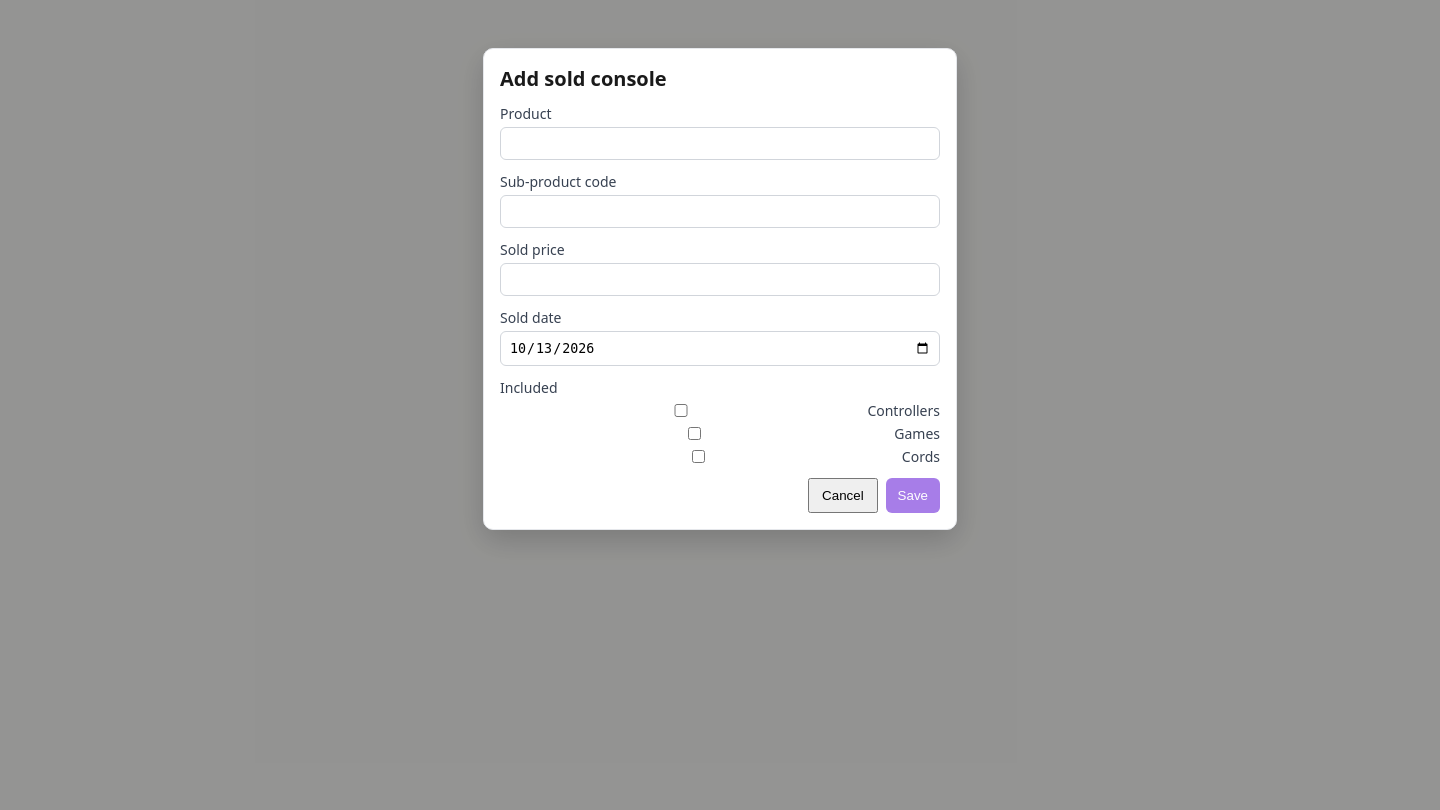
Test: AddSoldRecordModal › rejects a negative price without submitting
Type "wii" into the field labelled "Product" at coordinates (720, 144), box [500,127,940,160]
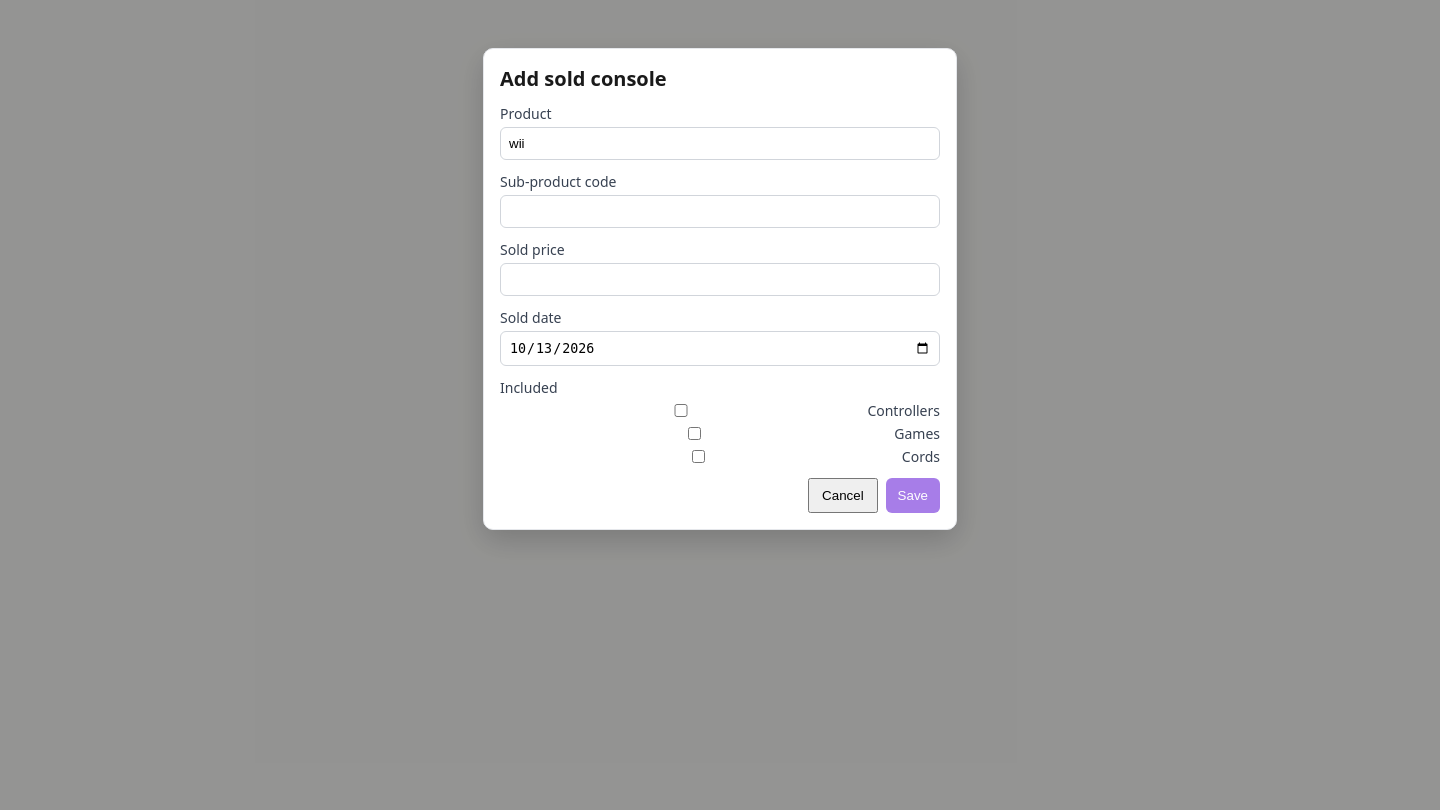
Type "-5" into the number field labelled "Sold price" at coordinates (720, 280), box [500,263,940,296]
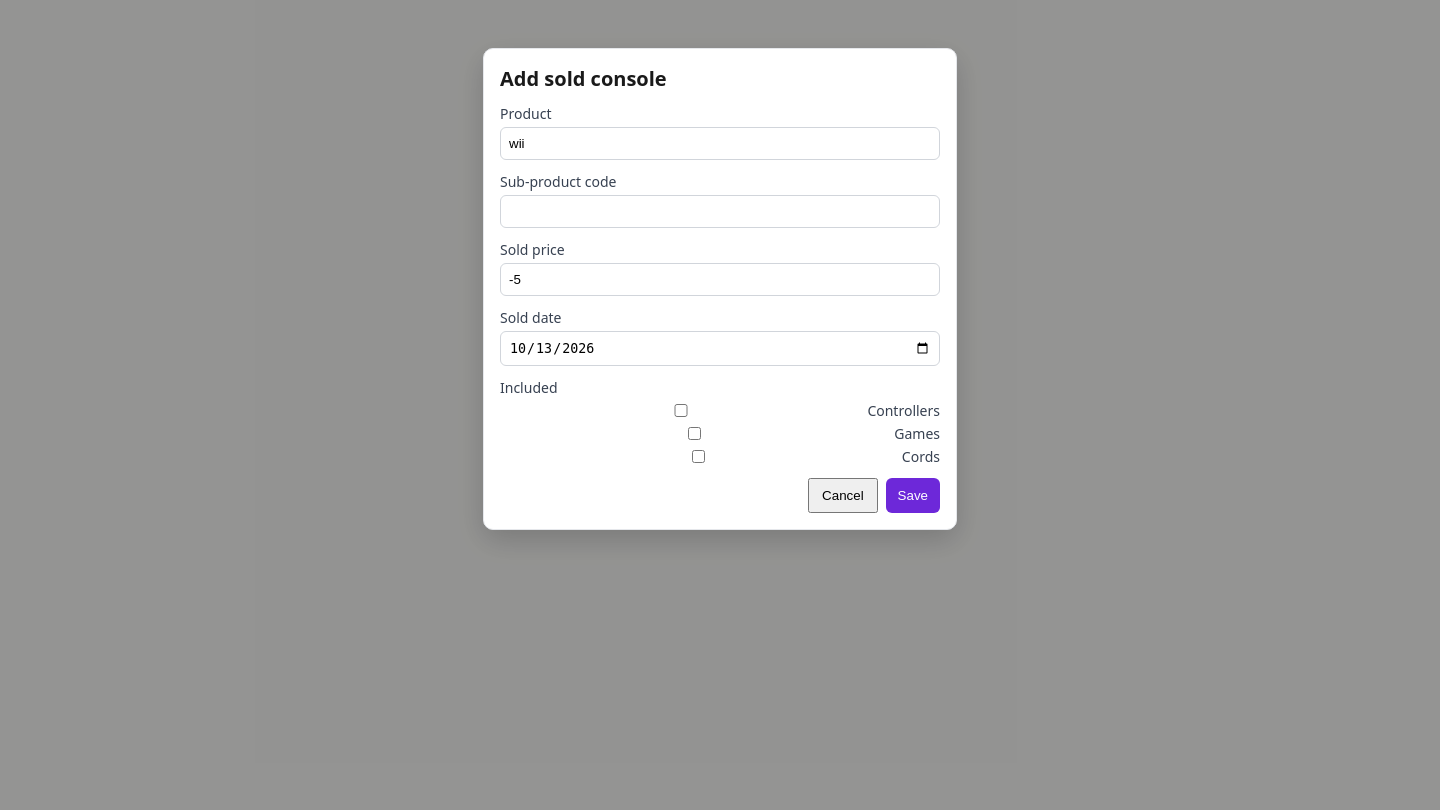
Click the button "Save" at coordinates (913, 496), box [886,478,940,513]
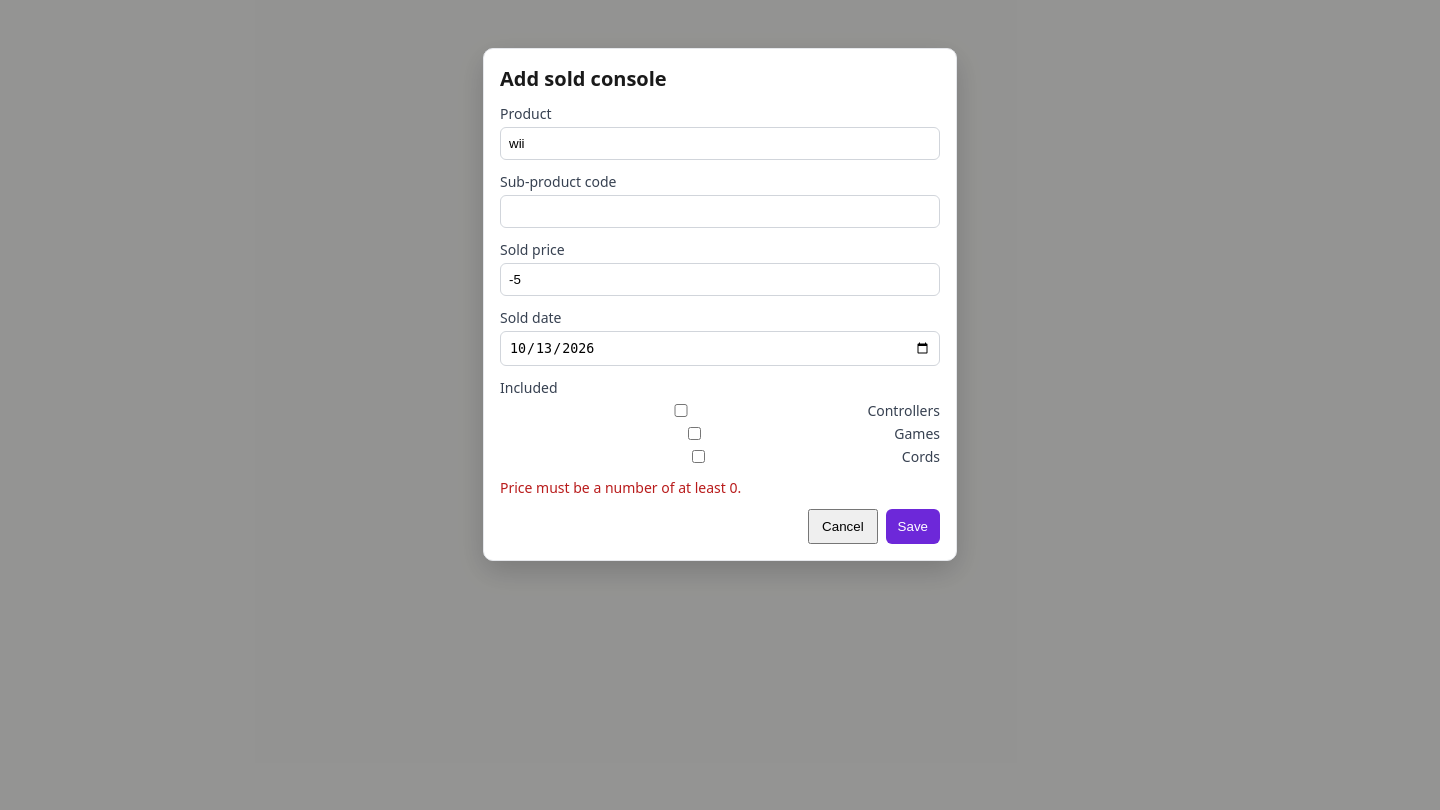
Expected: the text "Price must be a number of at least 0." is shown, [500,478,741,497]
